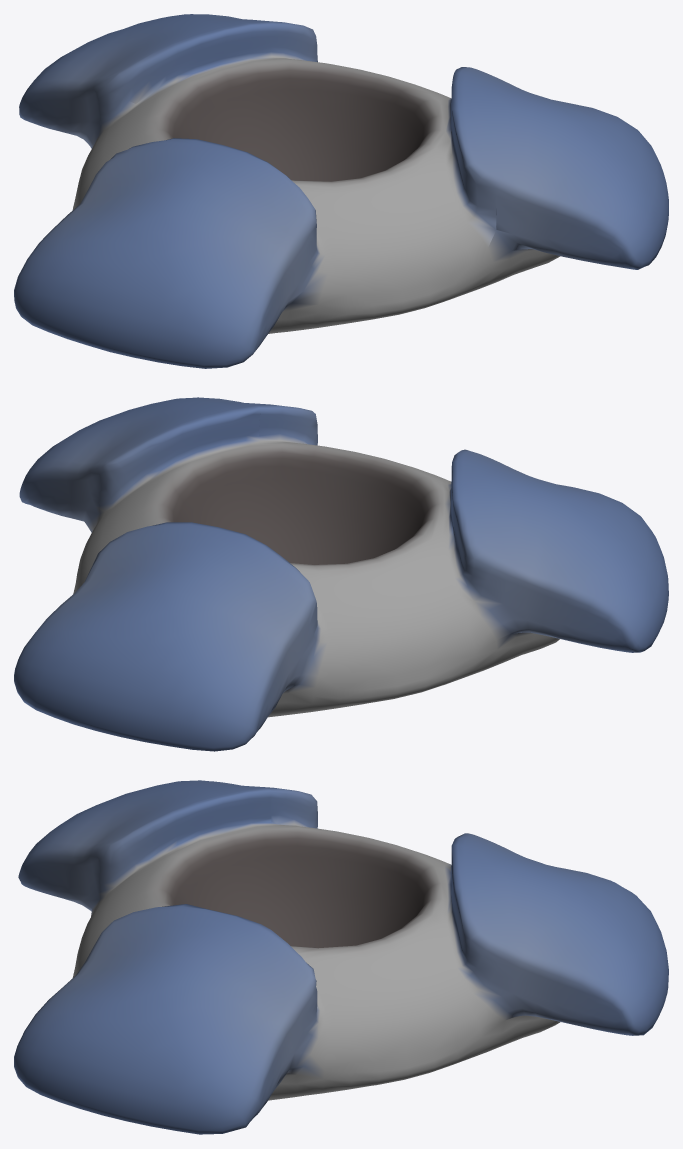
The model's file is chargepad.fbx.
3 renders of one model, top to bottom at view 1: azimuth 30°, elevation 25°; view 2: azimuth 150°, elevation 25°; view 3: azimuth 270°, elevation 25°, orthographic.
Visible parts, largest first — view 1: Retopo_chargepad; view 2: Retopo_chargepad; view 3: Retopo_chargepad.
Boxes of the visible parts, <box> form: Retopo_chargepad: <box>14,14,668,368</box>; Retopo_chargepad: <box>14,397,668,751</box>; Retopo_chargepad: <box>14,780,668,1134</box>.
Bounding box in the file's own units: 403 × 102 × 367.
